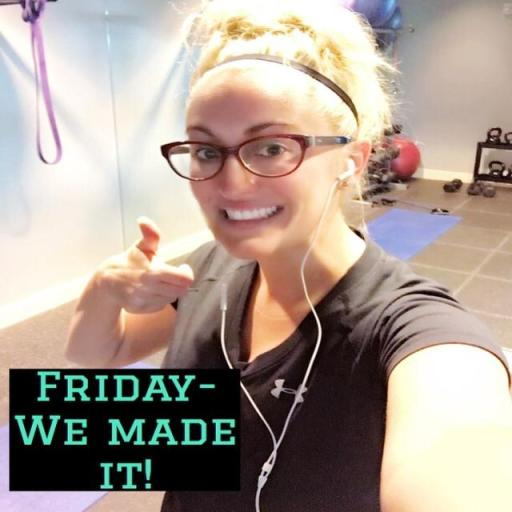Under Armour: (268, 373, 310, 405)
